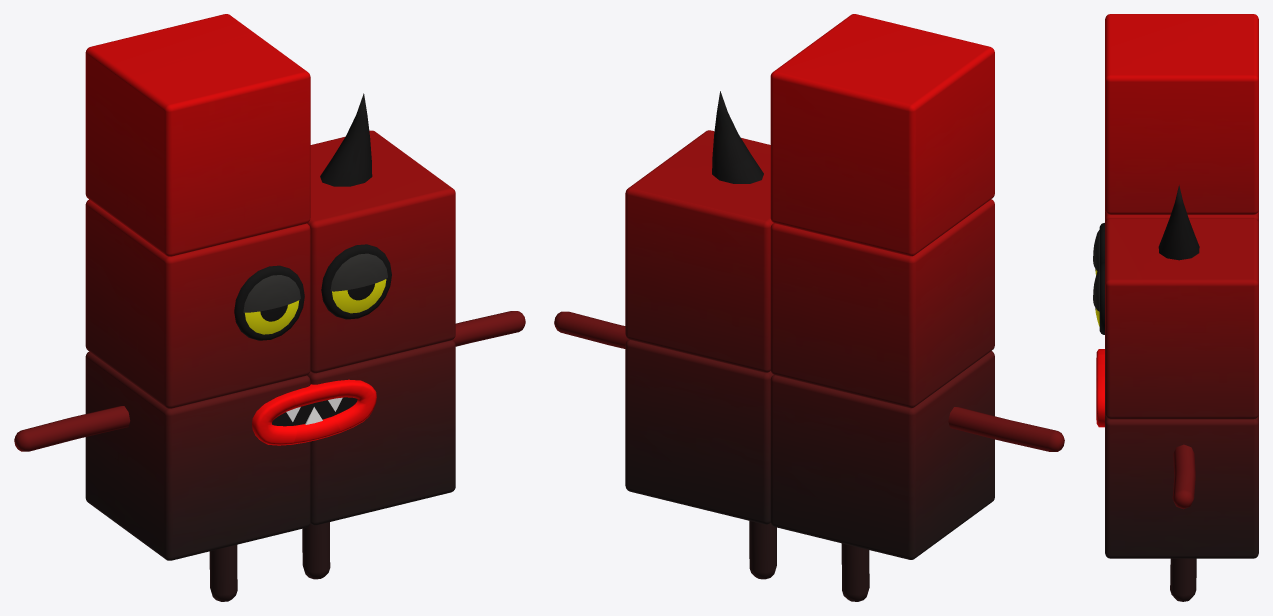
File: mons5.fbx
3 views of the same model, side by side, from view 1: azimuth 30°, elevation 25°; view 2: azimuth 150°, elevation 25°; view 3: azimuth 270°, elevation 25° (orthographic). The views are drawn at different scales.
Parts seen in each view (by area): view 1: mons5; view 2: mons5; view 3: mons5.
Boxes of the visible parts, x1,y1,x2,y2 form: mons5: (14,14,525,601); mons5: (554,14,1064,601); mons5: (1093,14,1258,601).
Bounding box in the file's own units: 349 × 360 × 108.
Materials: 1 (1 with a texture image).
